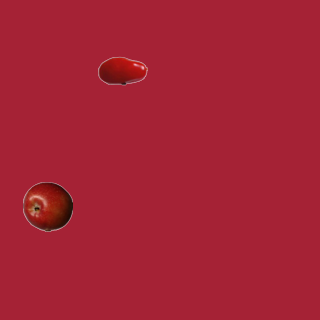Apple Braeburn: (22, 181, 72, 231)
Tomato 2: (97, 45, 147, 95)
